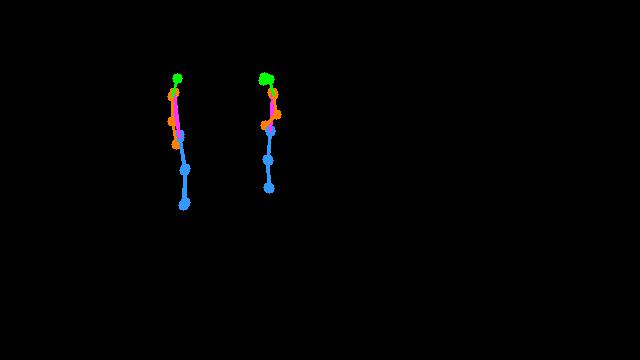normal: (149, 45, 297, 228)
